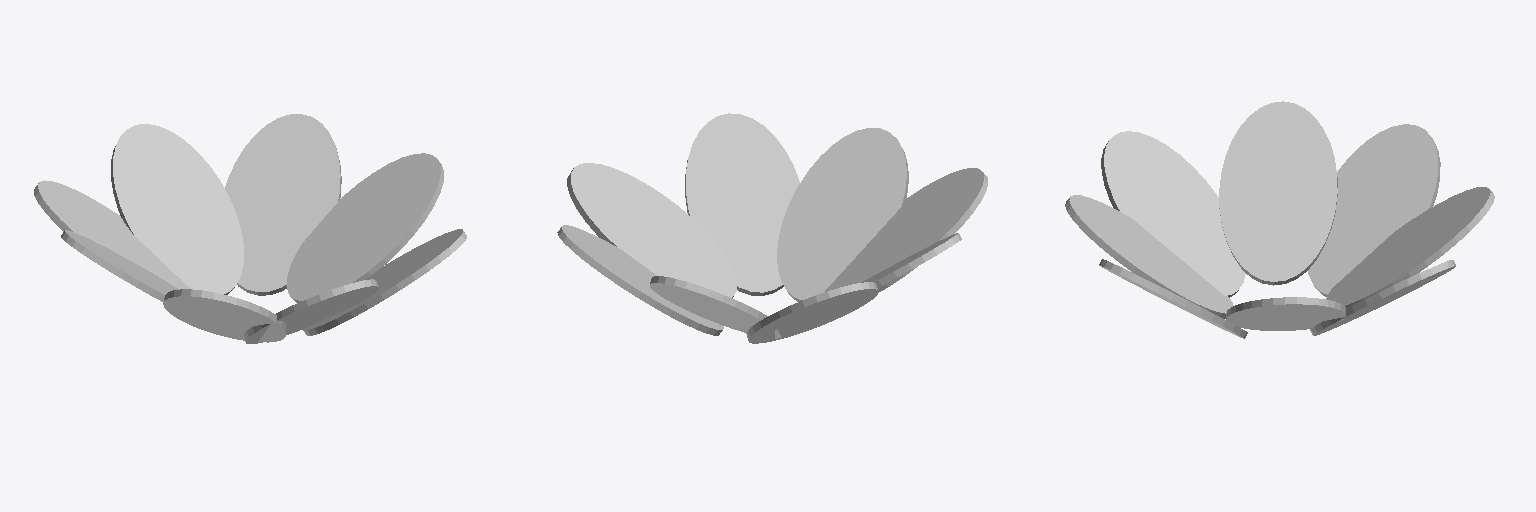
Rendered from platki.obj.
3 renders of one model, left to right at view 1: azimuth 30°, elevation 25°; view 2: azimuth 150°, elevation 25°; view 3: azimuth 270°, elevation 25°, orthographic.
Visible parts, largest first — view 1: Walec.009, Walec.007, Walec.003, Walec.008, Walec.006, Walec.010, Walec.004, Walec.005; view 2: Walec.004, Walec.010, Walec.003, Walec.006, Walec.007, Walec.008, Walec.009, Walec.005; view 3: Walec.005, Walec.006, Walec.008, Walec.009, Walec.004, Walec.003, Walec.007, Walec.010.
Part boxes in pixels (x1,y1,x2,y2): Walec.009: (111, 124, 243, 294); Walec.007: (225, 114, 341, 295); Walec.003: (286, 153, 443, 302); Walec.008: (34, 180, 189, 289); Walec.006: (163, 289, 287, 342); Walec.010: (303, 229, 466, 335); Walec.004: (243, 279, 378, 343); Walec.005: (61, 230, 178, 302); Walec.004: (777, 128, 908, 301); Walec.010: (685, 113, 799, 295); Walec.003: (567, 163, 736, 297); Walec.006: (825, 168, 987, 291); Walec.007: (557, 225, 723, 335); Walec.008: (746, 282, 878, 343); Walec.009: (650, 276, 781, 338); Walec.005: (862, 233, 961, 287); Walec.005: (1219, 101, 1337, 285); Walec.006: (1101, 131, 1245, 297); Walec.008: (1308, 124, 1440, 296); Walec.009: (1326, 187, 1494, 308); Walec.004: (1065, 195, 1233, 318); Walec.003: (1226, 297, 1345, 330); Walec.007: (1310, 260, 1455, 335); Walec.010: (1099, 259, 1247, 338).
Bounding box in the file's own units: 2.81 × 0.913 × 2.77.